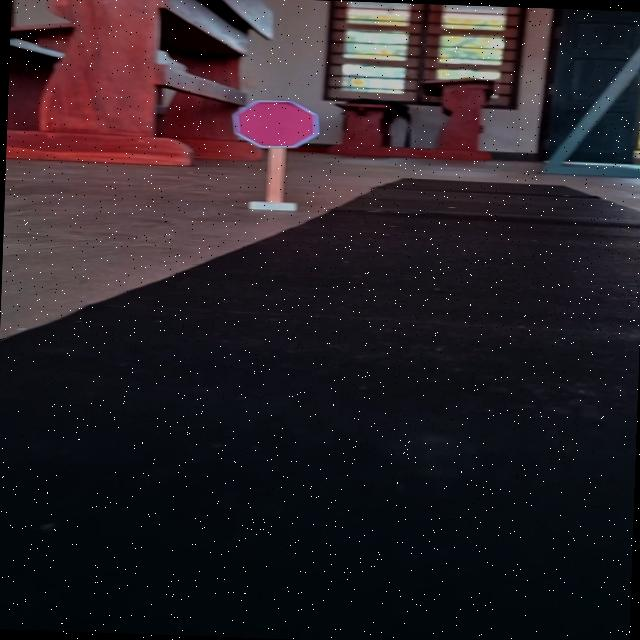Stop: (228, 95, 324, 150)
